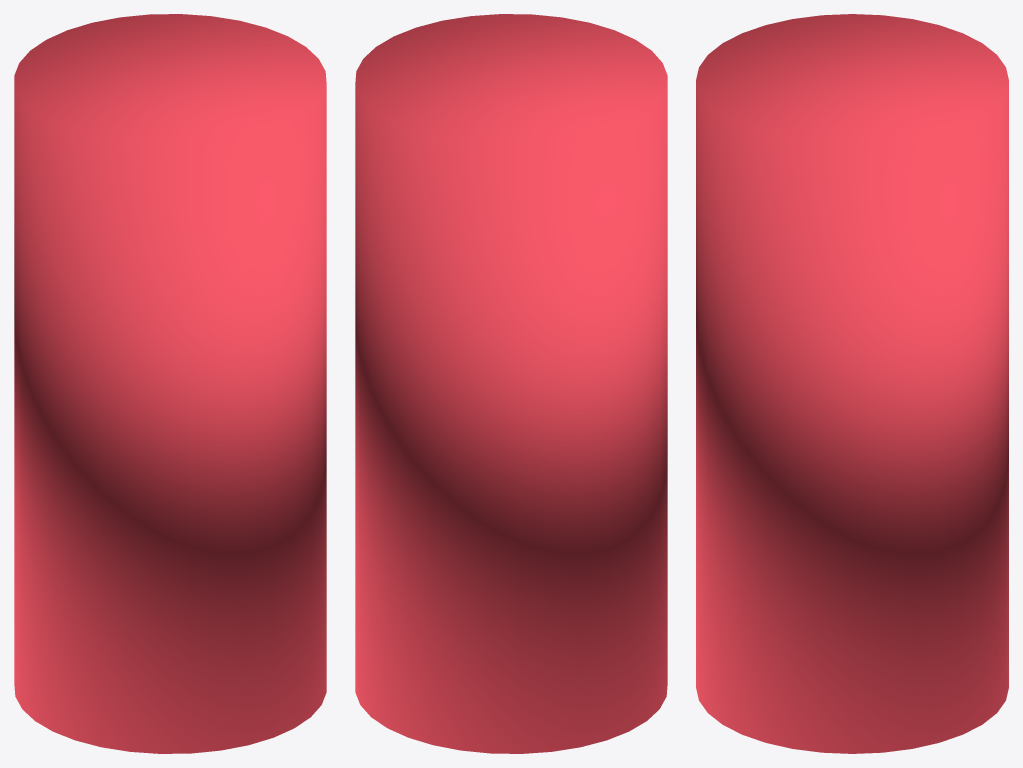
The model's file is HATCH_Billet_Oil_Catch_Can.glb.
The picture shows the model from 3 angles, left to right: view 1: azimuth 30°, elevation 25°; view 2: azimuth 150°, elevation 25°; view 3: azimuth 270°, elevation 25°; orthographic projection.
Parts seen in each view (by area): view 1: HATCH_Billet_Oil_Catch_Can; view 2: HATCH_Billet_Oil_Catch_Can; view 3: HATCH_Billet_Oil_Catch_Can.
Boxes of the visible parts, x1,y1,x2,y2 form: HATCH_Billet_Oil_Catch_Can: (14,14,326,753); HATCH_Billet_Oil_Catch_Can: (355,14,667,753); HATCH_Billet_Oil_Catch_Can: (696,14,1008,753).
Bounding box in the file's own units: 0.084 × 0.18 × 0.084.
